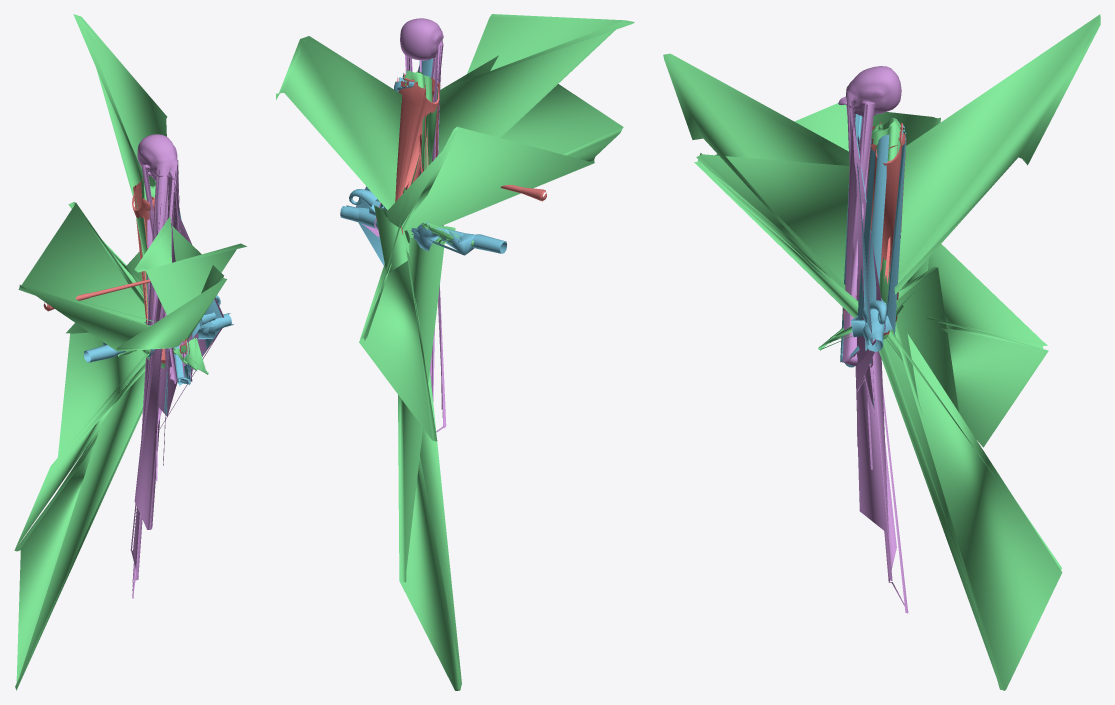
3 renders of one model, left to right at view 1: azimuth 30°, elevation 25°; view 2: azimuth 150°, elevation 25°; view 3: azimuth 270°, elevation 25°, orthographic. The views are drawn at different scales.
Visible parts, largest first — view 1: mesh_35, mesh_46, mesh_25, mesh_11, mesh_61, mesh_34, mesh_51, mesh_26, mesh_37, mesh_9, mesh_52, mesh_33 (+14 smaller); view 2: mesh_37, mesh_32, mesh_35, mesh_25, mesh_61, mesh_33, mesh_53, mesh_52, mesh_59, mesh_8, mesh_10, mesh_36 (+6 smaller); view 3: mesh_62, mesh_34, mesh_28, mesh_52, mesh_11, mesh_41, mesh_2, mesh_42, mesh_54, mesh_25, mesh_9, mesh_38 (+9 smaller).
Boxes of the visible parts, x1,y1,x2,y2 form: mesh_35: (17,332,145,683); mesh_46: (22,203,217,340); mesh_25: (15,332,144,549); mesh_11: (131,159,223,592); mesh_61: (14,440,95,682); mesh_34: (73,14,166,168); mesh_51: (146,249,236,315); mesh_26: (102,240,226,351); mesh_37: (20,285,150,350); mesh_9: (130,158,223,598); mesh_52: (134,216,246,272); mesh_33: (75,19,143,192); mesh_37: (402,85,623,237); mesh_32: (438,31,610,154); mesh_35: (360,205,461,682); mesh_25: (359,207,437,441); mesh_61: (398,226,456,689); mesh_33: (307,36,402,201); mesh_53: (277,39,394,210); mesh_52: (440,14,634,90); mesh_59: (403,226,461,688); mesh_8: (395,73,439,201); mesh_10: (400,18,442,60); mesh_36: (382,134,595,228); mesh_62: (895,332,1062,690); mesh_34: (888,14,1100,283); mesh_28: (696,154,849,283); mesh_52: (663,53,849,211); mesh_11: (843,85,908,611); mesh_41: (892,322,1043,447); mesh_2: (840,114,906,406); mesh_42: (915,244,1043,349); mesh_54: (919,245,1047,445); mesh_25: (896,267,1046,411); mesh_9: (842,88,908,613); mesh_38: (696,156,858,317).
Bounding box in the file's own units: 25.58 × 67.38 × 36.46.
